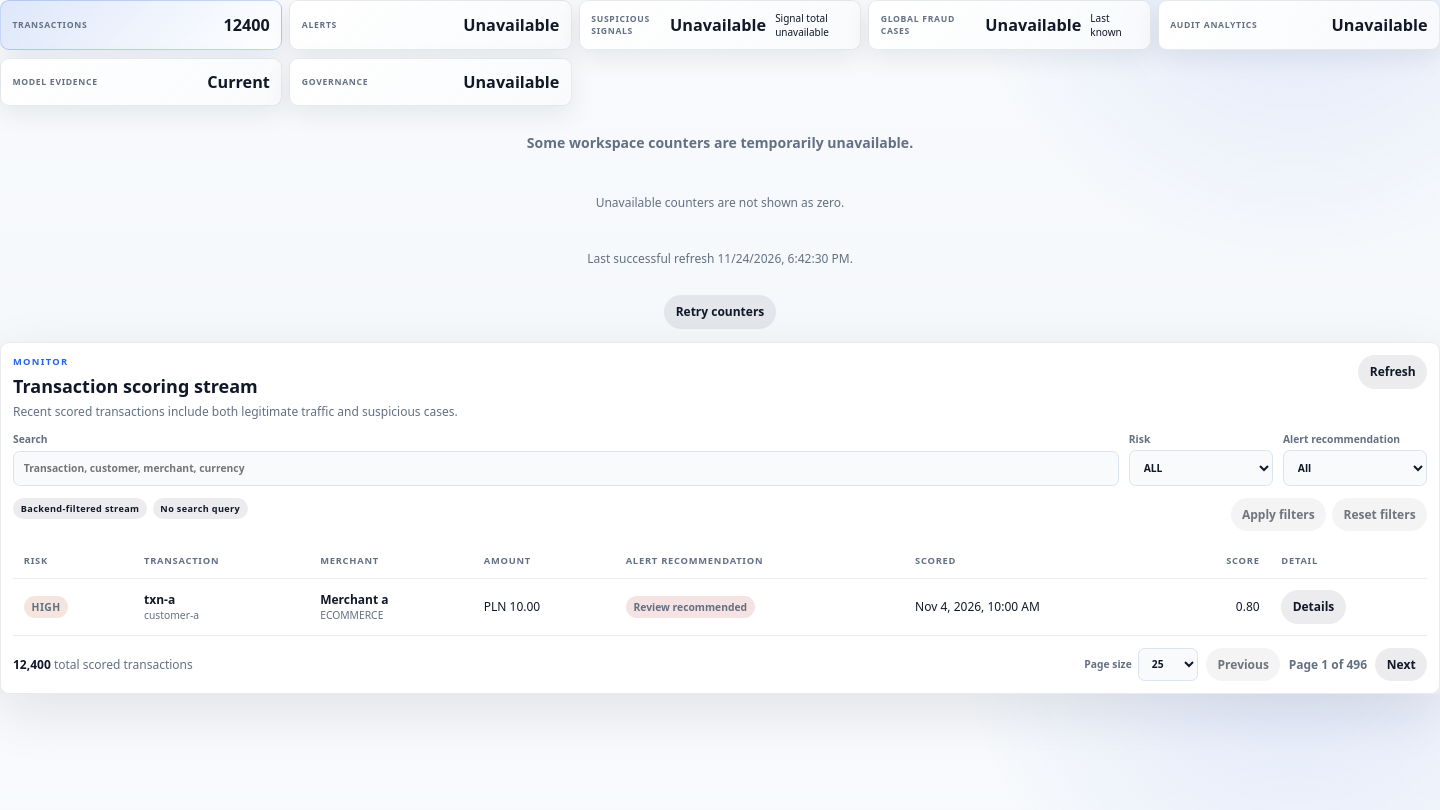
Test: transaction scoring read boundary with real provider, API client, hooks and views › keeps the Transactions navigation count global while the stream is filtered
Expected: the link "Transactions 12400" is shown, [0,0,282,50]
Step 1. Type "narrowed" into the field labelled "Search" → (566, 469), box [13,452,1119,486]
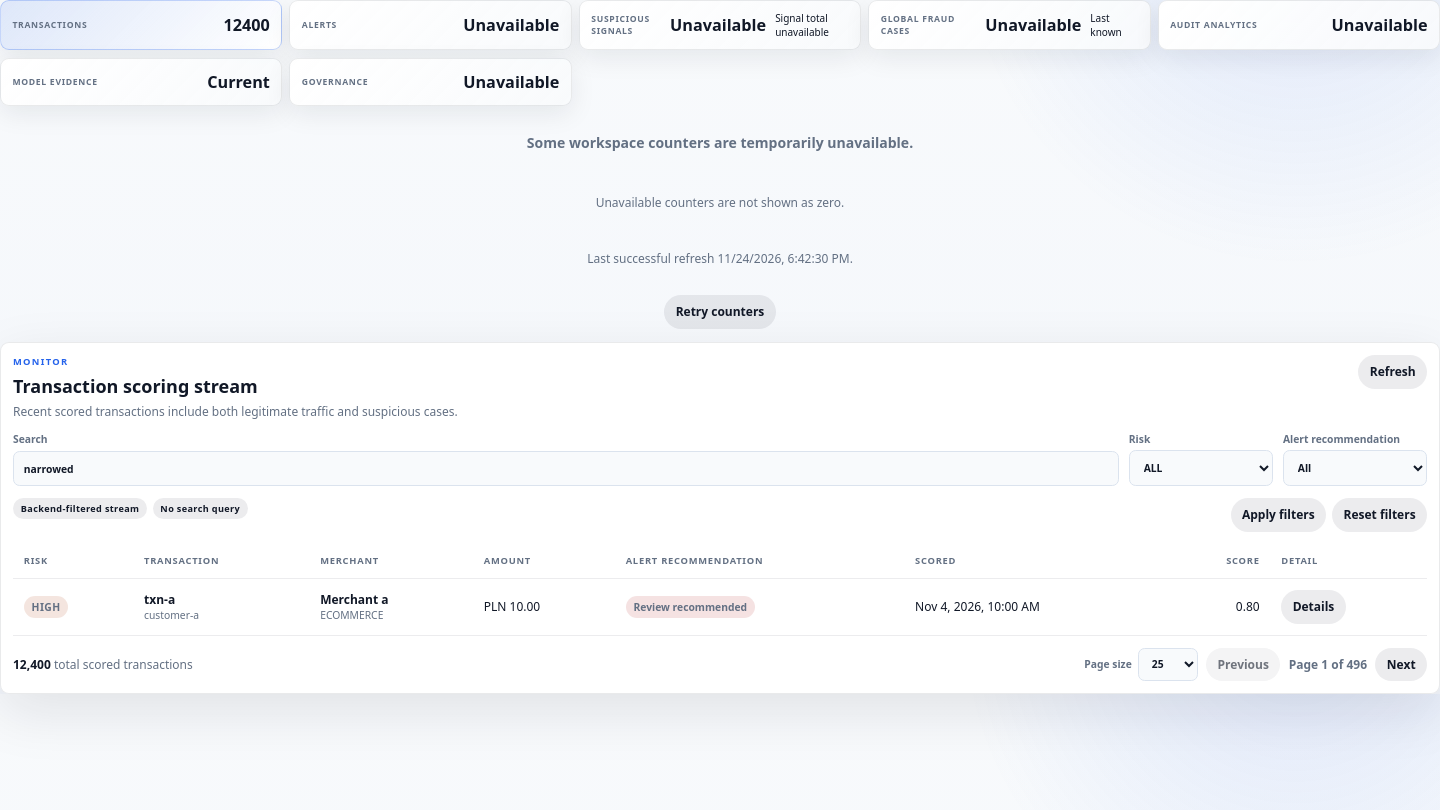
Step 2. Click the button "Apply filters" → (1278, 515), box [1231,498,1326,532]
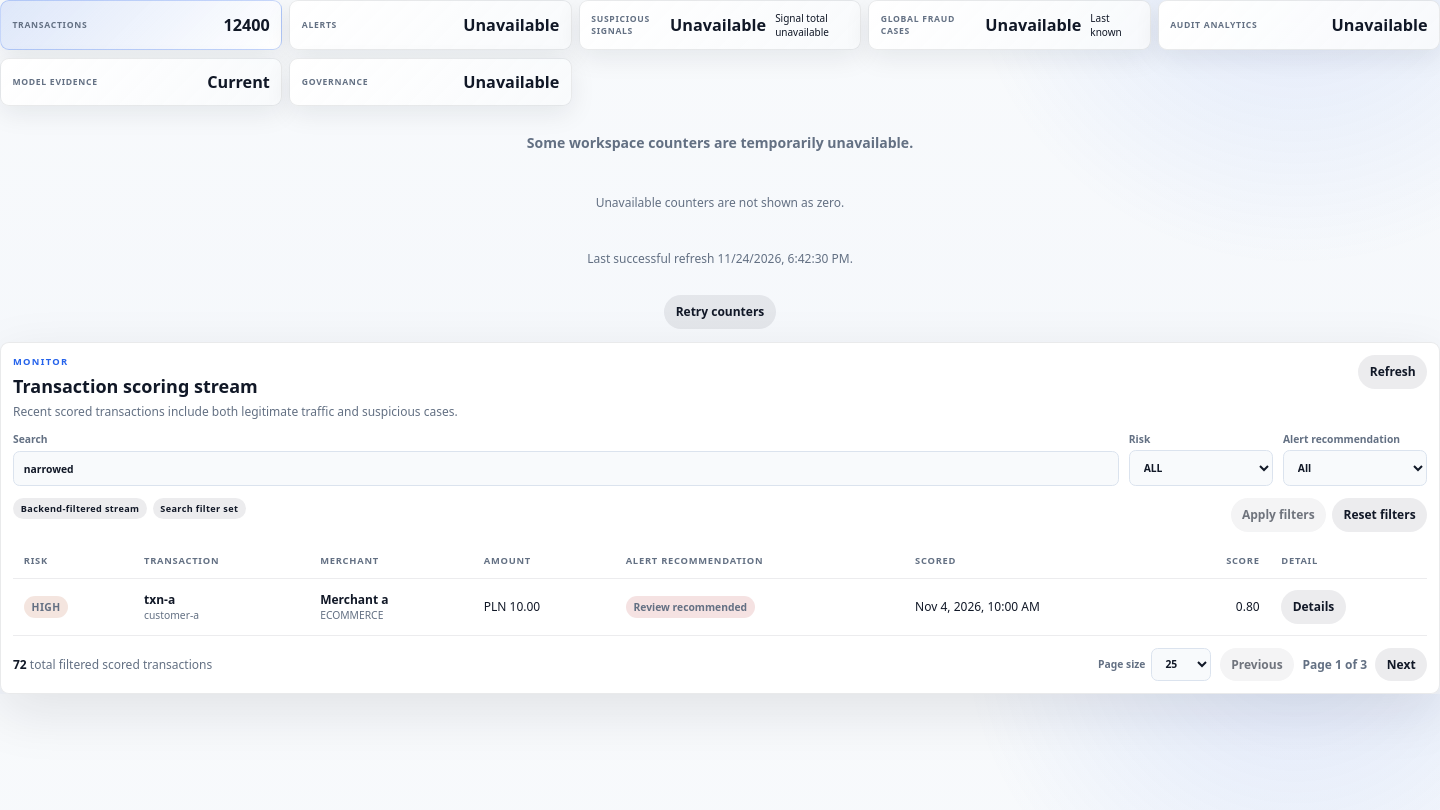
Expected: the link "Transactions 12400" is shown, [0,0,282,50]
Expected: the text "Page 1 of 3" is shown, [1302,656,1367,673]
